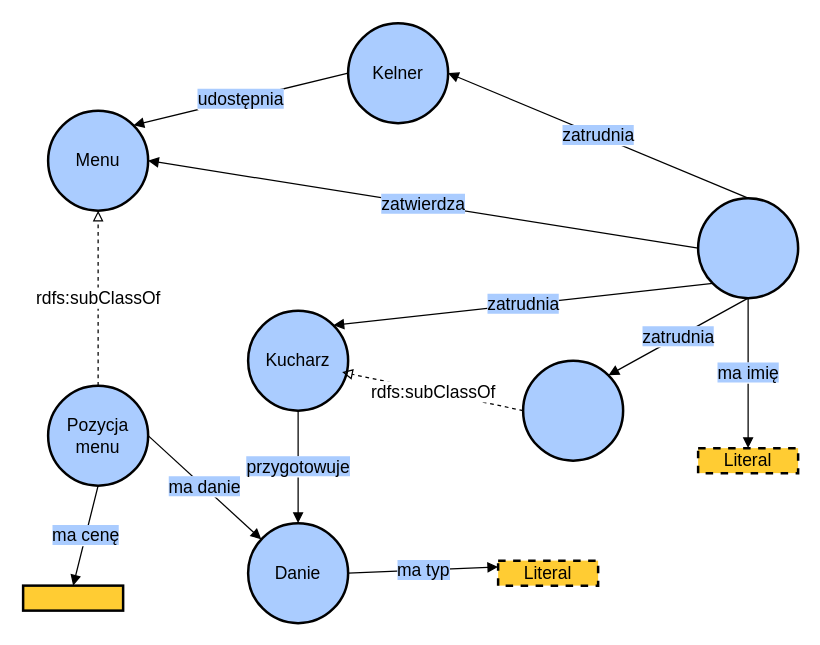
The diagram is 820 pixels wide and 645 high, and some of its shapes have lost their labels. Each missing label, with the centre of its shape:
money: the point at 72,597
Restaurator: the point at 747,247
Szef kuchni: the point at 572,410
